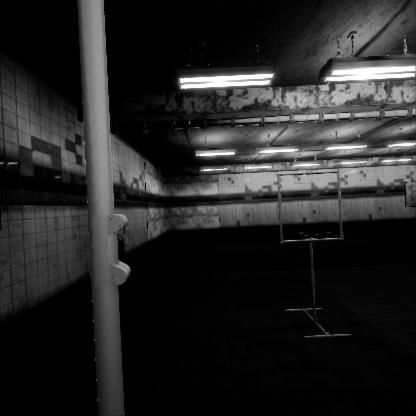gate: (277, 172, 348, 246)
